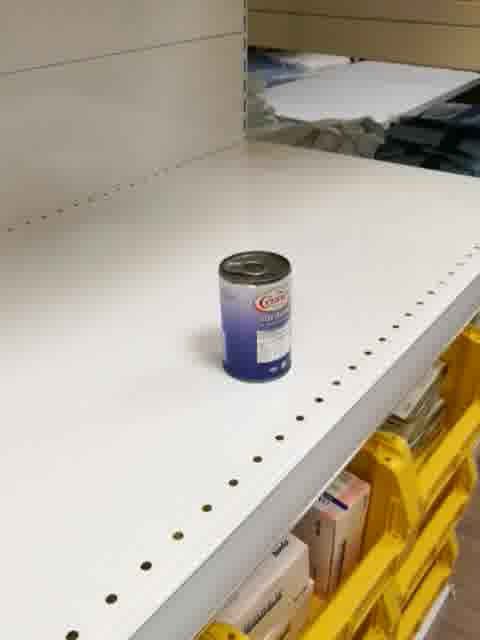sardine: (217, 248, 295, 387)
